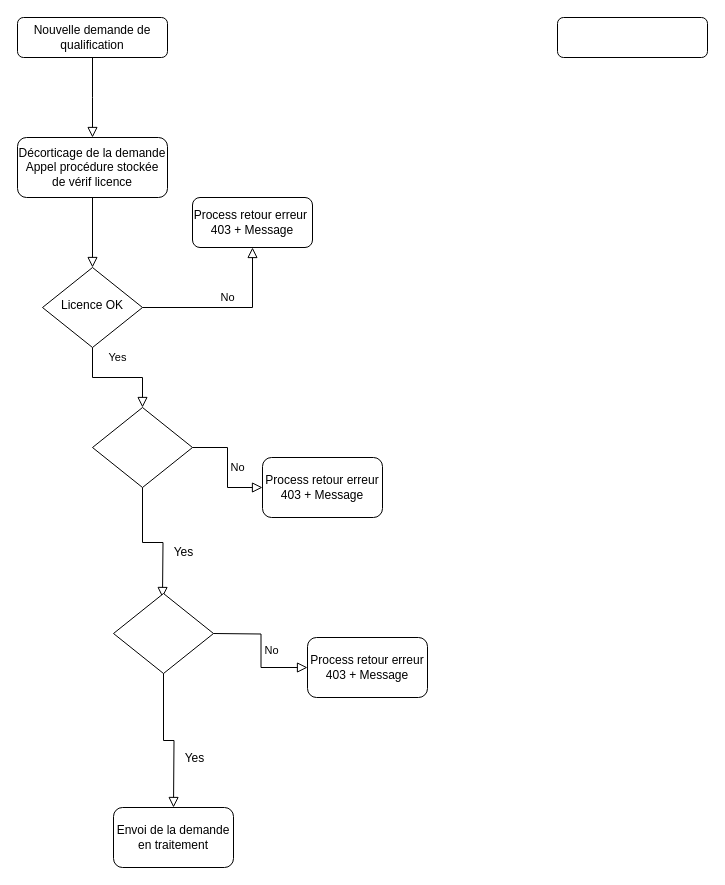
The diagram is 725 pixels wide and 885 high, and some of its shapes have lost their labels. Each missing label, with the centre of its shape:
"Combinaison outils OK" goes at point (142, 447).
"Combinaison outils pas sous licence" goes at point (163, 633).
"Verifier/Qualifieur" goes at point (632, 37).
